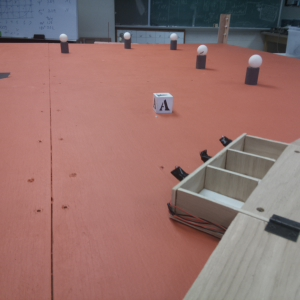blockA: (152, 94, 173, 116)
corner: (217, 15, 232, 47)
obstacle: (243, 53, 263, 85), (193, 44, 208, 72), (58, 33, 71, 55), (167, 32, 181, 52), (122, 32, 132, 51)
side: (150, 127, 275, 185)
slope: (185, 217, 300, 297)
start: (1, 71, 10, 82)
